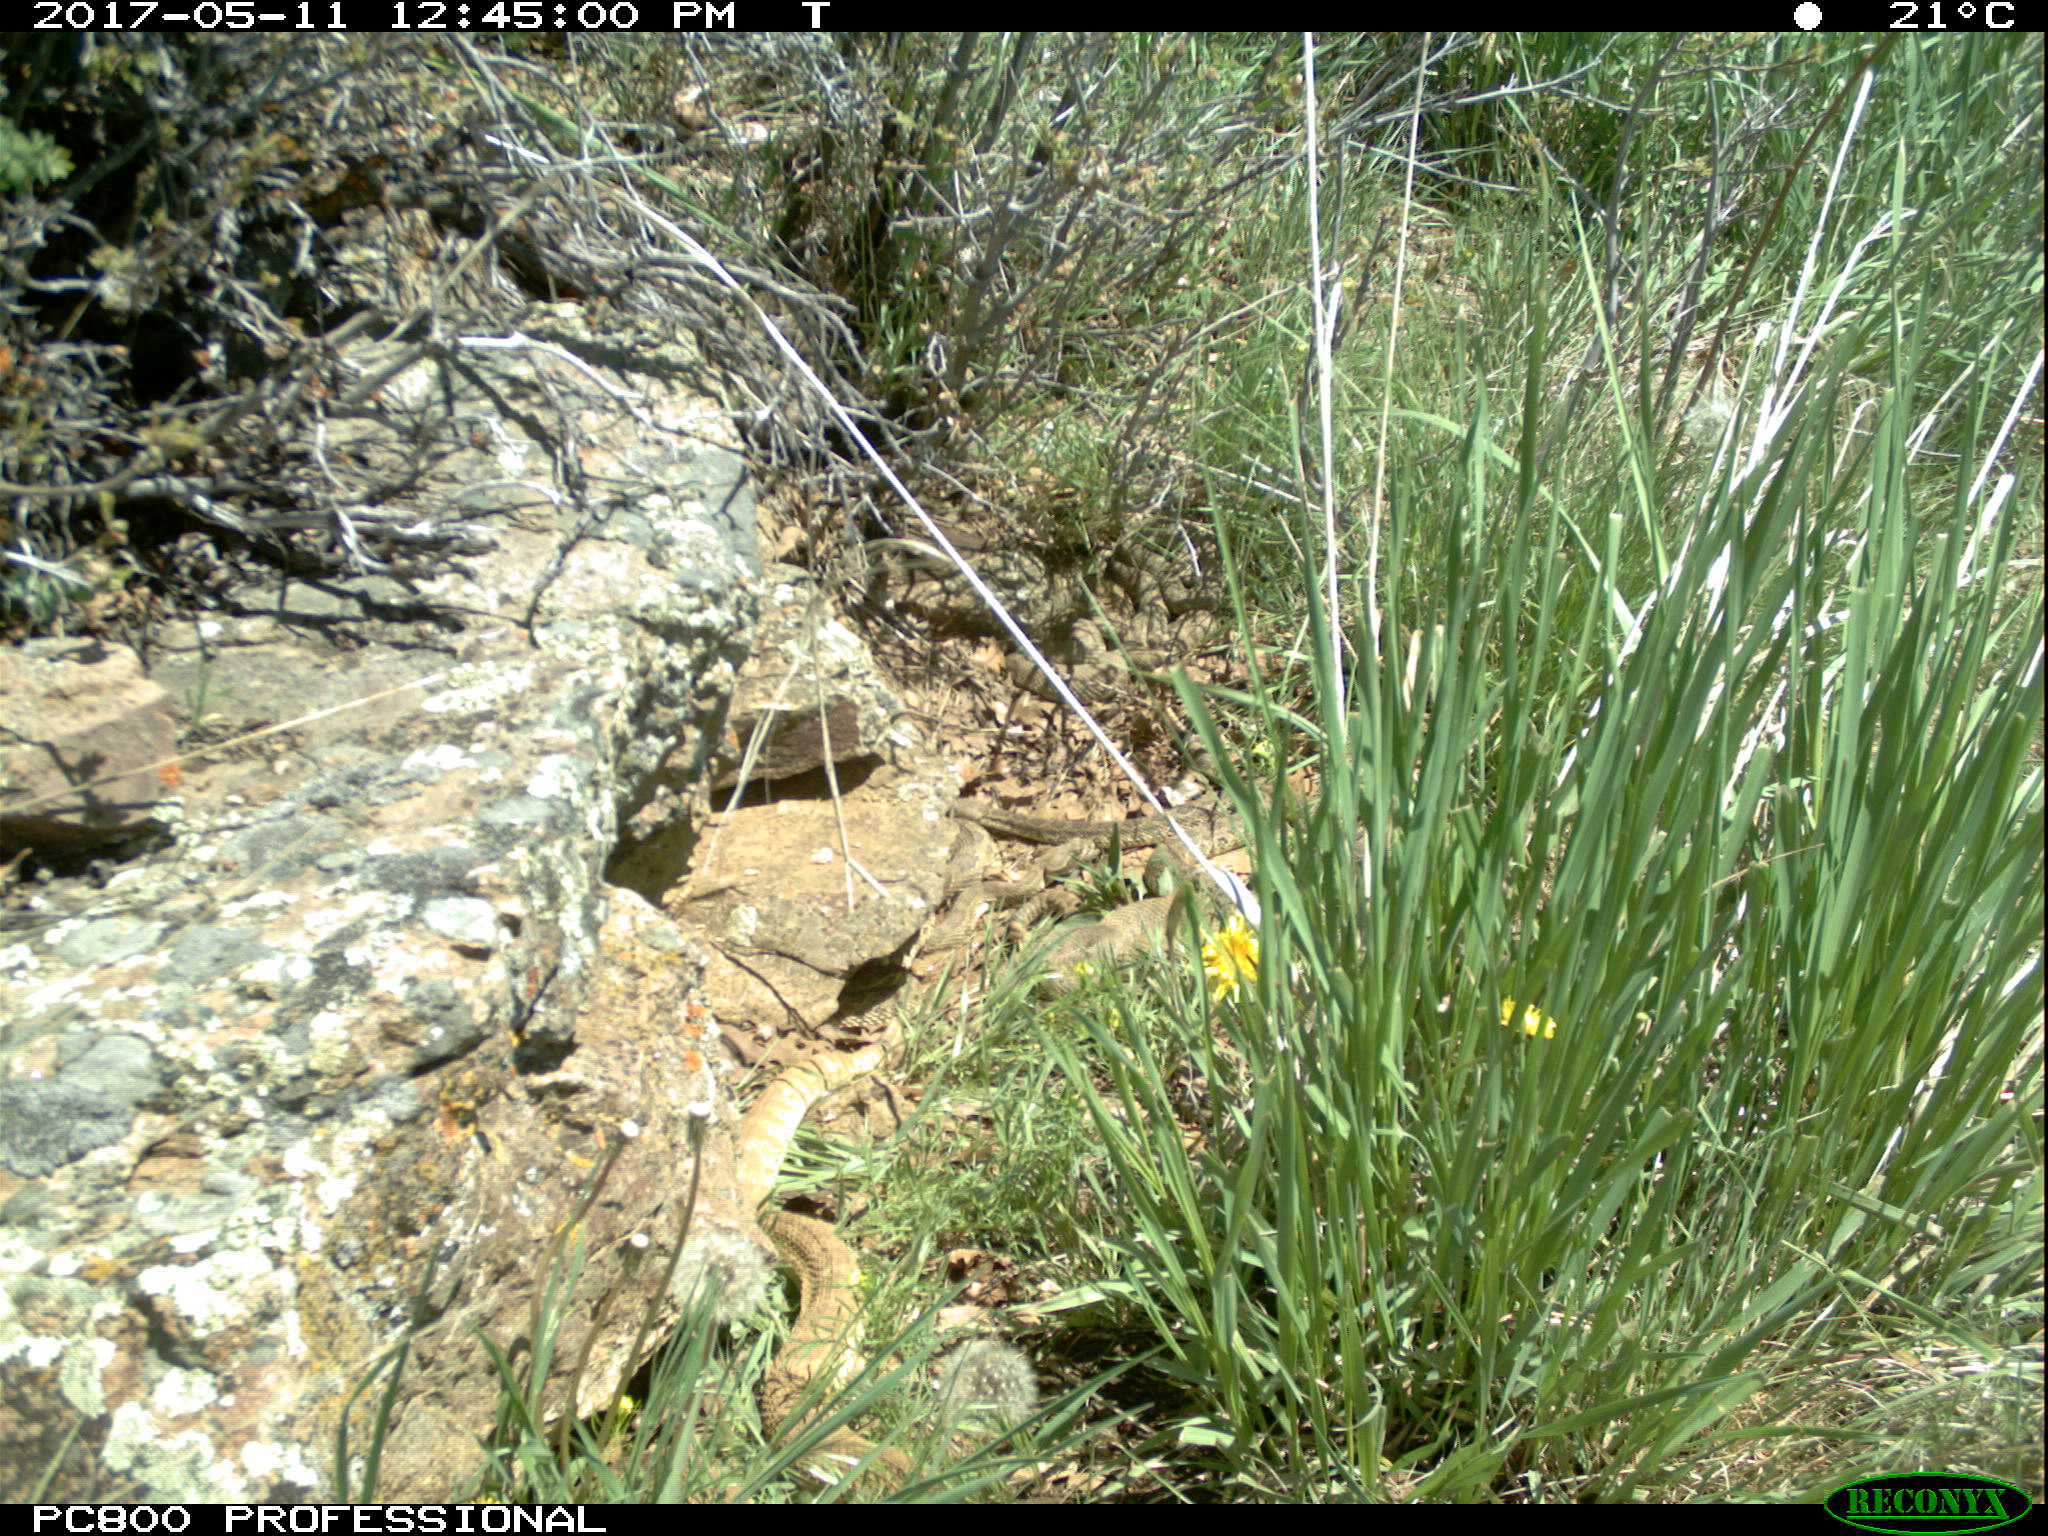snake: (756, 1207, 932, 1494), (734, 1016, 900, 1225), (921, 828, 1100, 957), (1014, 889, 1205, 983), (959, 795, 1274, 852)
